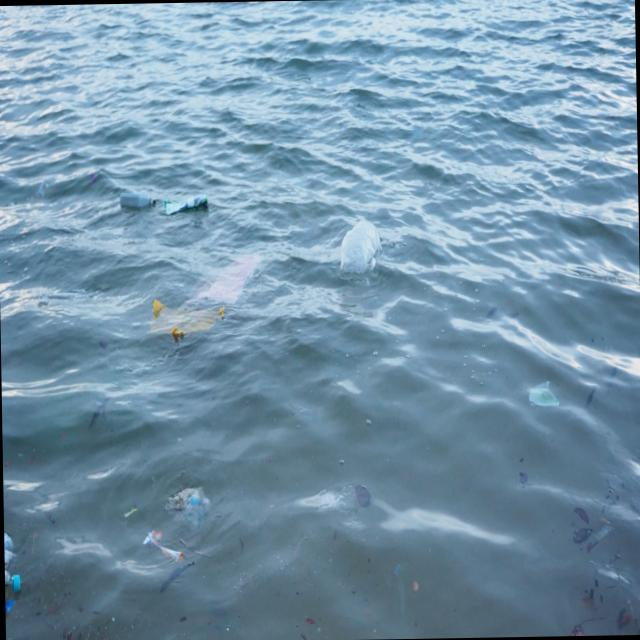plastic: (117, 187, 156, 210), (4, 568, 23, 603)
plastic bottle: (337, 216, 386, 280), (160, 190, 209, 221)
unknow: (198, 242, 262, 312), (149, 301, 226, 340), (166, 478, 208, 530), (141, 526, 184, 564), (523, 374, 560, 408), (4, 531, 22, 565)
